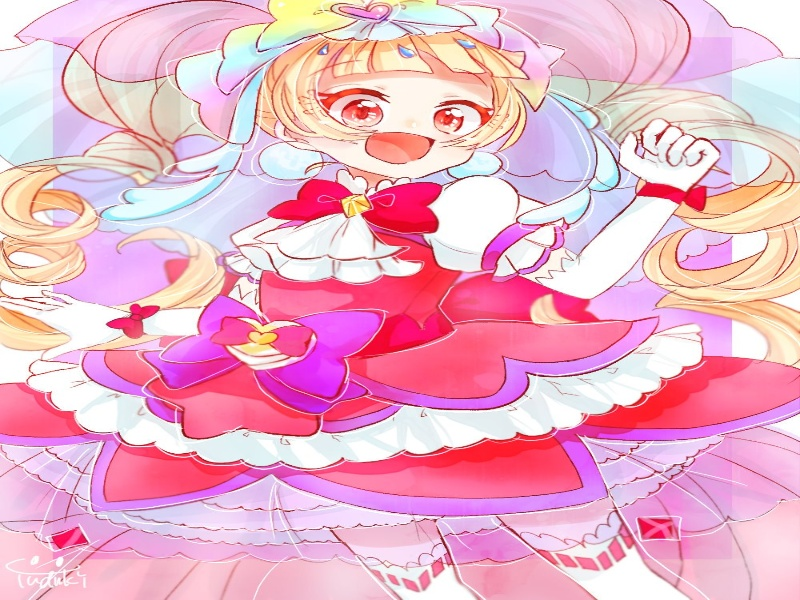dress: (1, 178, 799, 550)
person: (258, 18, 528, 199)
